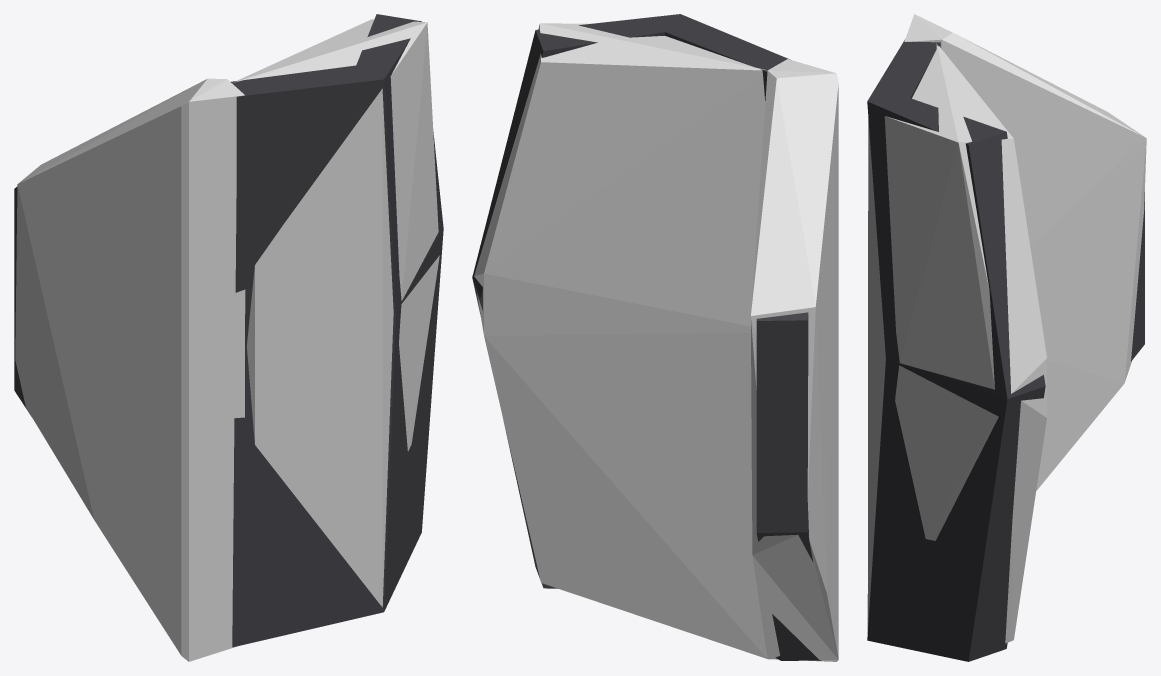
Rendered from SM_Env_Debris_Shell_03.fbx.
3 renders of one model, left to right at view 1: azimuth 30°, elevation 25°; view 2: azimuth 150°, elevation 25°; view 3: azimuth 270°, elevation 25°, orthographic. The views are drawn at different scales.
Visible parts, largest first — view 1: SM_Env_Debris_Shell_03_ConvexHulls, SM_Env_Debris_Shell_03_LOD0; view 2: SM_Env_Debris_Shell_03_ConvexHulls, SM_Env_Debris_Shell_03_LOD0; view 3: SM_Env_Debris_Shell_03_ConvexHulls, SM_Env_Debris_Shell_03_LOD0.
Part boxes in pixels (x1,y1,x2,y2): SM_Env_Debris_Shell_03_ConvexHulls: [15, 19, 439, 661]; SM_Env_Debris_Shell_03_LOD0: [14, 14, 443, 647]; SM_Env_Debris_Shell_03_ConvexHulls: [474, 23, 838, 661]; SM_Env_Debris_Shell_03_LOD0: [472, 14, 821, 660]; SM_Env_Debris_Shell_03_ConvexHulls: [867, 14, 1146, 643]; SM_Env_Debris_Shell_03_LOD0: [867, 40, 1144, 661].
Bounding box in the file's own units: 41.25 × 64.94 × 92.3.
1 material, 1 textured.
